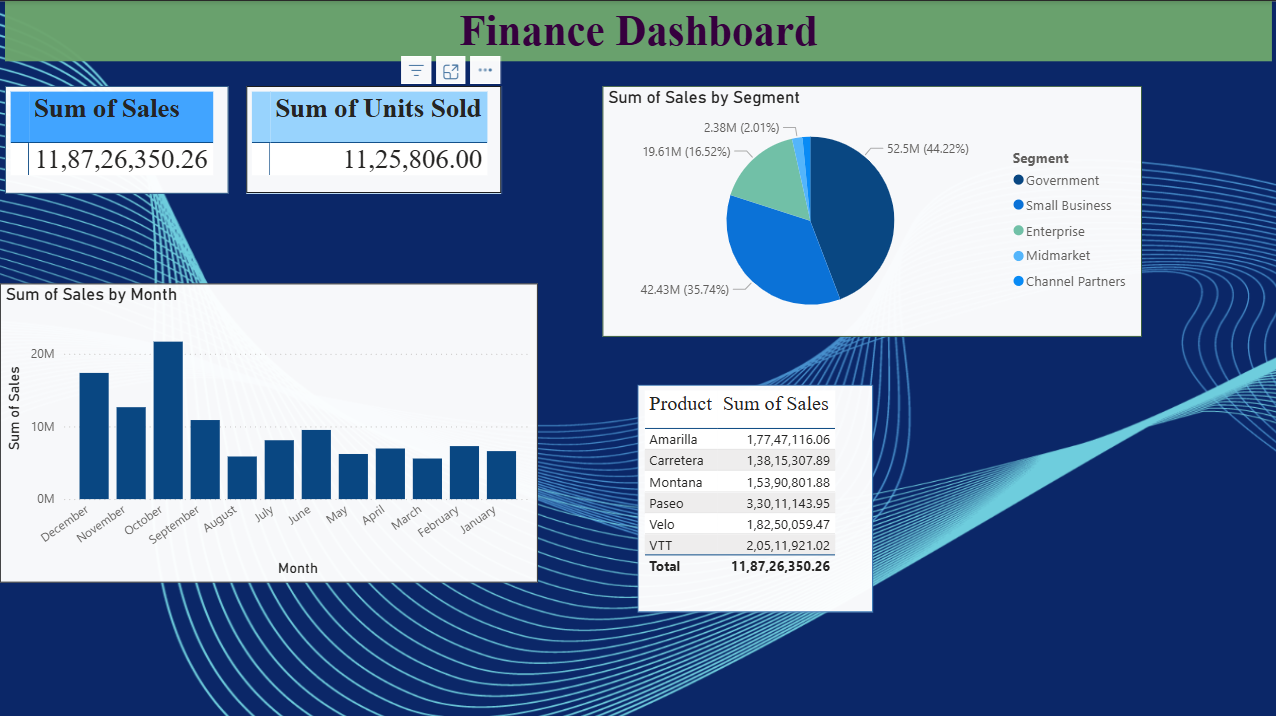

The page's visual inventory and layout, read from the dashboard file:
{"tool":"powerbi","page":{"name":"Page 1","canvas":[1280,720],"ordinal":0},"visuals":[{"type":"textbox","box":[9.6,0,1261.1,60.4],"z":0},{"type":"pivotTable","fields":{"Values":["Sum(Sheet1. Sales)"]},"box":[9.6,85.1,222.3,107],"z":1000},{"type":"pivotTable","fields":{"Values":["Sum(Sheet1.Units Sold)"]},"box":[249.7,85.1,253.9,107],"z":2000},{"type":"clusteredColumnChart","fields":{"Category":["Sheet1.Date.Variation.Date Hierarchy.Year","Sheet1.Date.Variation.Date Hierarchy.Quarter","Sheet1.Date.Variation.Date Hierarchy.Month","Sheet1.Date.Variation.Date Hierarchy.Day"],"Y":["Sum(Sheet1. Sales)"]},"box":[5.5,281.3,535.2,297.8],"z":3000},{"type":"pieChart","fields":{"Category":["Sheet1.Segment"],"Y":["Sum(Sheet1. Sales)"]},"box":[605.1,85.1,536.5,249.7],"z":4000},{"type":"tableEx","fields":{"Values":["Sheet1.Product","Sum(Sheet1. Sales)"]},"box":[639.5,381.5,234.6,226.4],"z":5000}]}

Visuals, with their boxes in screenshot pixels (x1, y1, x2, y2), scaled from the page's 1280x720 canvas onto the 1276x716 screenshot:
textbox: l=10, t=0, r=1267, b=60
pivotTable - Sum(Sheet1. Sales): l=10, t=85, r=231, b=191
pivotTable - Sum(Sheet1.Units Sold): l=249, t=85, r=502, b=191
clusteredColumnChart - Sheet1.Date.Variation.Date Hierarchy.Year x Sheet1.Date.Variation.Date Hierarchy.Quarter: l=5, t=280, r=539, b=576
pieChart - Sheet1.Segment x Sum(Sheet1. Sales): l=603, t=85, r=1138, b=333
tableEx - Sheet1.Product x Sum(Sheet1. Sales): l=638, t=379, r=871, b=605
